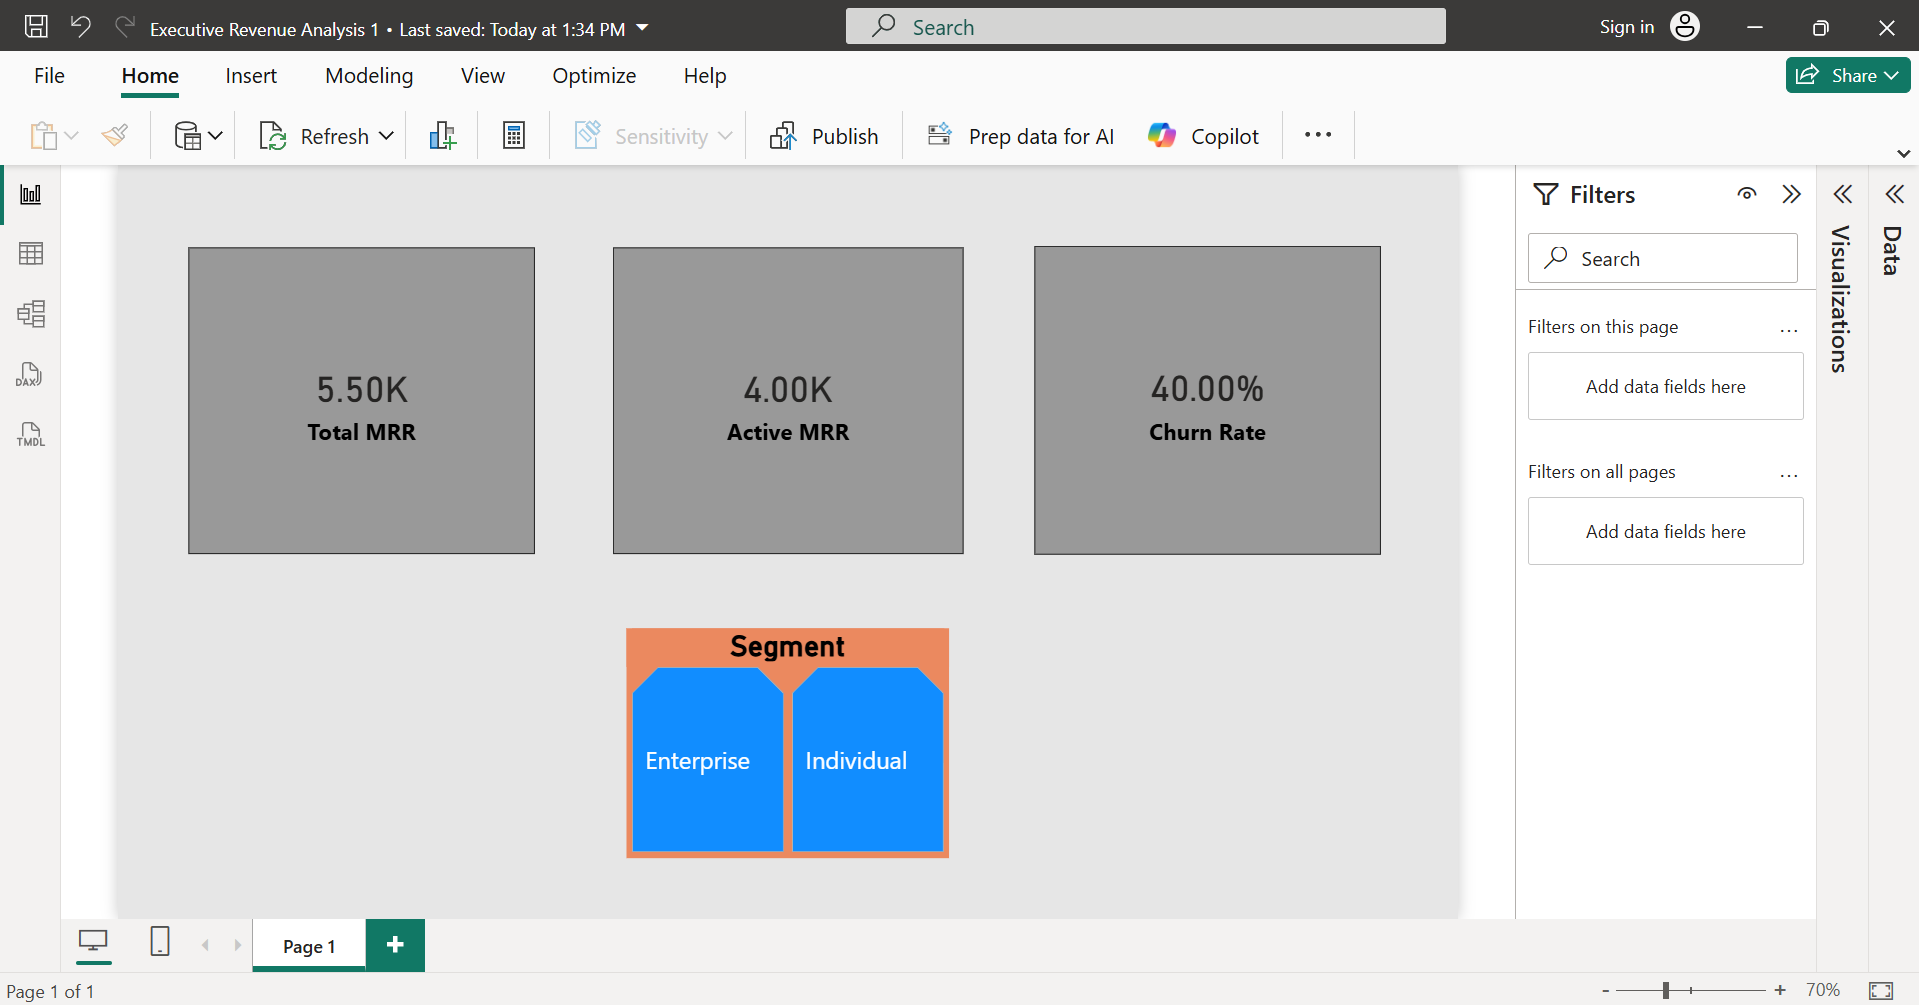

The dashboard page shown, as its layout file describes it:
{"tool":"powerbi","page":{"name":"Page 1","canvas":[1280,720],"ordinal":0},"visuals":[{"type":"card","fields":{"Values":["public vw_executive_revenue.Total MRR"]},"box":[68,79.4,330.7,292.9],"z":0},{"type":"card","fields":{"Values":["public vw_executive_revenue.Churn Rate"]},"box":[875,77.5,330.7,294.8],"z":1},{"type":"card","fields":{"Values":["public vw_executive_revenue.Active MRR"]},"box":[472.4,79.4,334.5,292.9],"z":2},{"type":"advancedSlicerVisual","title":"Segment","fields":{"Values":["public vw_executive_revenue.segment"]},"box":[485.7,442.2,308,219.2],"z":3}]}

Visuals, with their boxes on the page's 1280x720 design canvas (x1, y1, x2, y2). These are canvas units, not pixel positions in the 1919x1005 screenshot, which may show the page scaled, cropped or inside an application window:
card - public vw_executive_revenue.Total MRR: bbox=(68, 79, 399, 372)
card - public vw_executive_revenue.Churn Rate: bbox=(875, 78, 1206, 372)
card - public vw_executive_revenue.Active MRR: bbox=(472, 79, 807, 372)
"Segment" advancedSlicerVisual: bbox=(486, 442, 794, 661)
